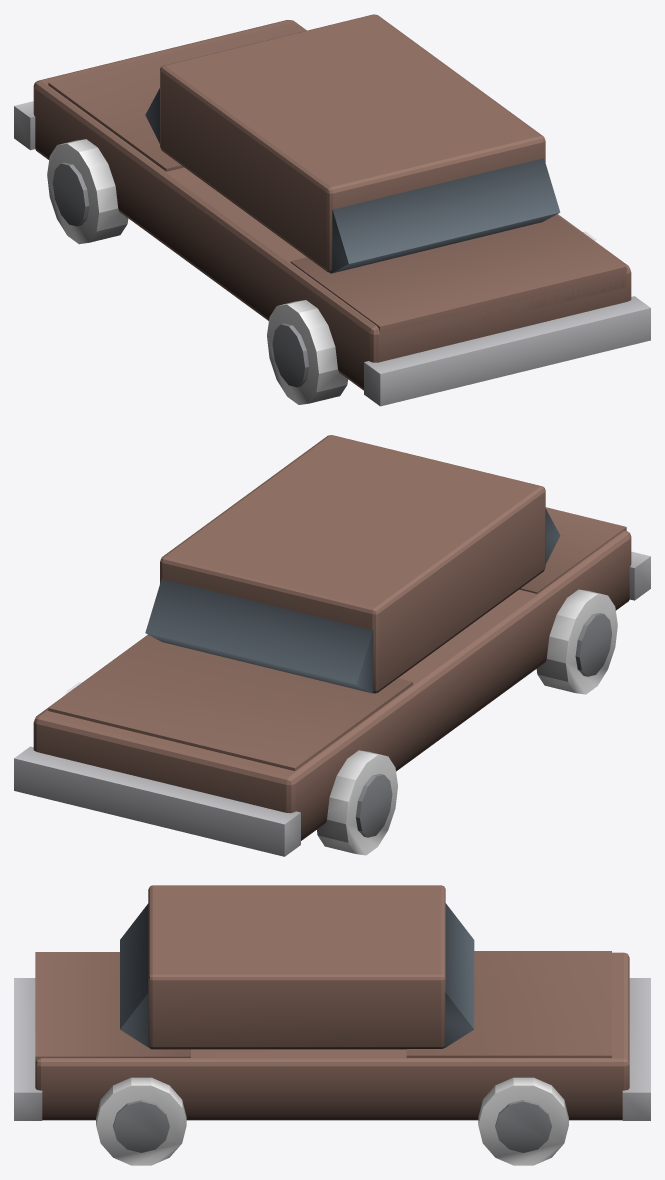
The model's file is Vehicle_Wrecked_Sedan.fbx.
The picture shows the model from 3 angles, top to bottom: view 1: azimuth 30°, elevation 25°; view 2: azimuth 150°, elevation 25°; view 3: azimuth 270°, elevation 25°; orthographic projection. The views are drawn at different scales.
Parts seen in each view (by area): view 1: Vehicle_Wrecked_Sedan_LOD0; view 2: Vehicle_Wrecked_Sedan_LOD0; view 3: Vehicle_Wrecked_Sedan_LOD0.
Boxes of the visible parts, bbox=[...] form: Vehicle_Wrecked_Sedan_LOD0: bbox=[14, 14, 650, 406]; Vehicle_Wrecked_Sedan_LOD0: bbox=[14, 435, 650, 856]; Vehicle_Wrecked_Sedan_LOD0: bbox=[14, 885, 650, 1165].
Size of what is drawn, in the model's own units: 2.18 by 1.34 by 4.5.
